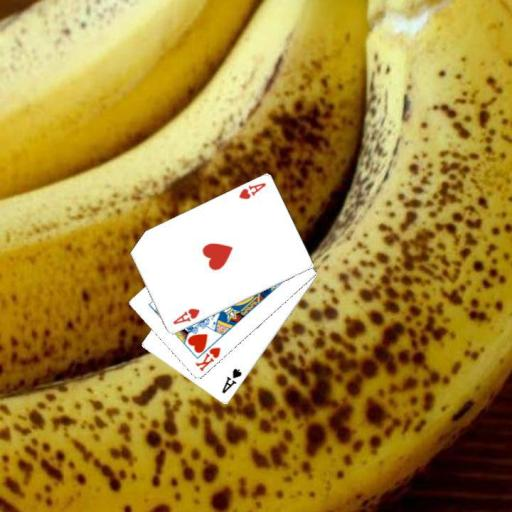AH: (236, 180, 268, 201), (170, 305, 201, 326)
AS: (219, 366, 244, 396)
KH: (192, 345, 222, 374)
